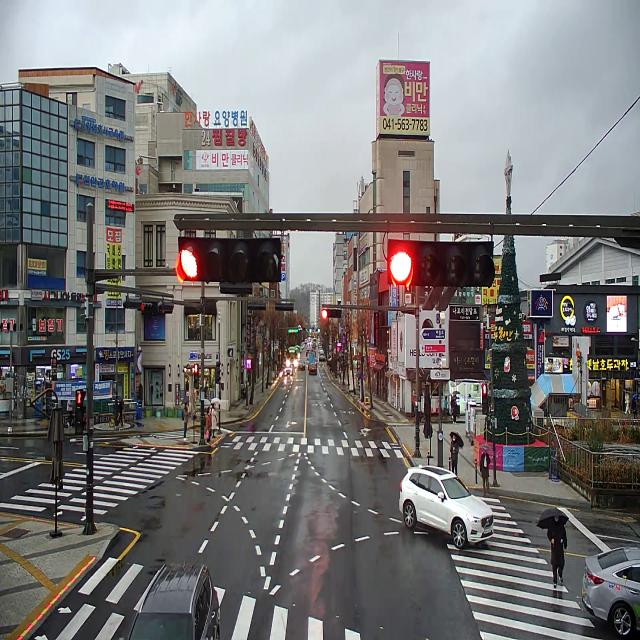Bus: (288, 347, 296, 366), (295, 345, 300, 358), (313, 338, 316, 346)
Car: (399, 464, 493, 548), (128, 558, 220, 640), (581, 547, 640, 636), (284, 366, 292, 376), (298, 360, 305, 370), (319, 353, 325, 361), (306, 350, 311, 356), (312, 344, 316, 349)
Truck: (309, 354, 317, 372)
